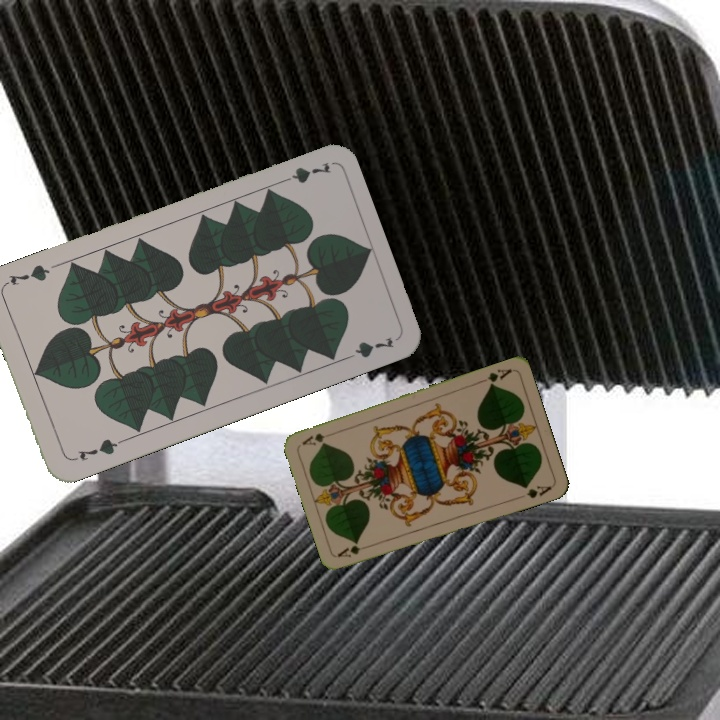G7: (274, 158, 334, 187), (68, 434, 125, 464)
GA: (475, 365, 514, 389), (334, 541, 374, 560)
